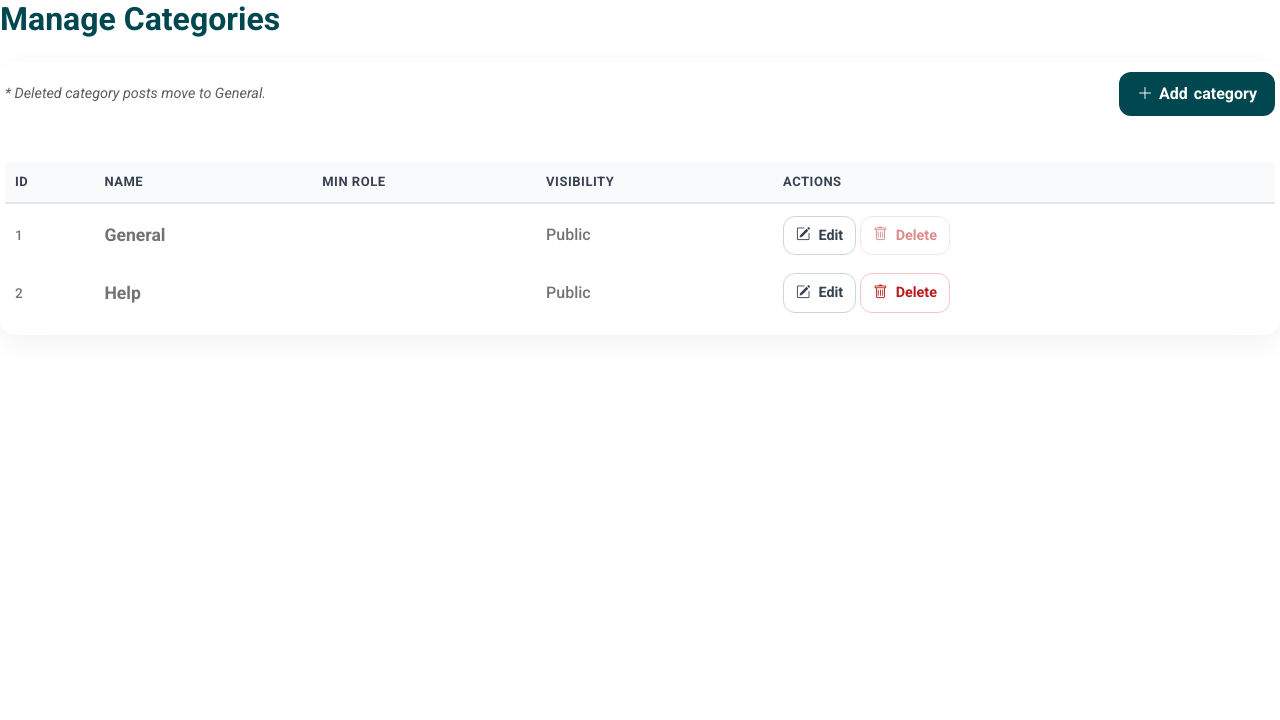
Scenario: AdminCategories.vue › displays categories from the database and delete opens confirmation with name and General
Check: the table with class "admin-table" is shown, box [5,156,1275,325]
Check: the 1st button with class "btn-delete" is disabled, box [860,216,950,255]
Click the button with class "btn-delete" in the row of "Help" at point(905, 293), box [860,273,950,313]
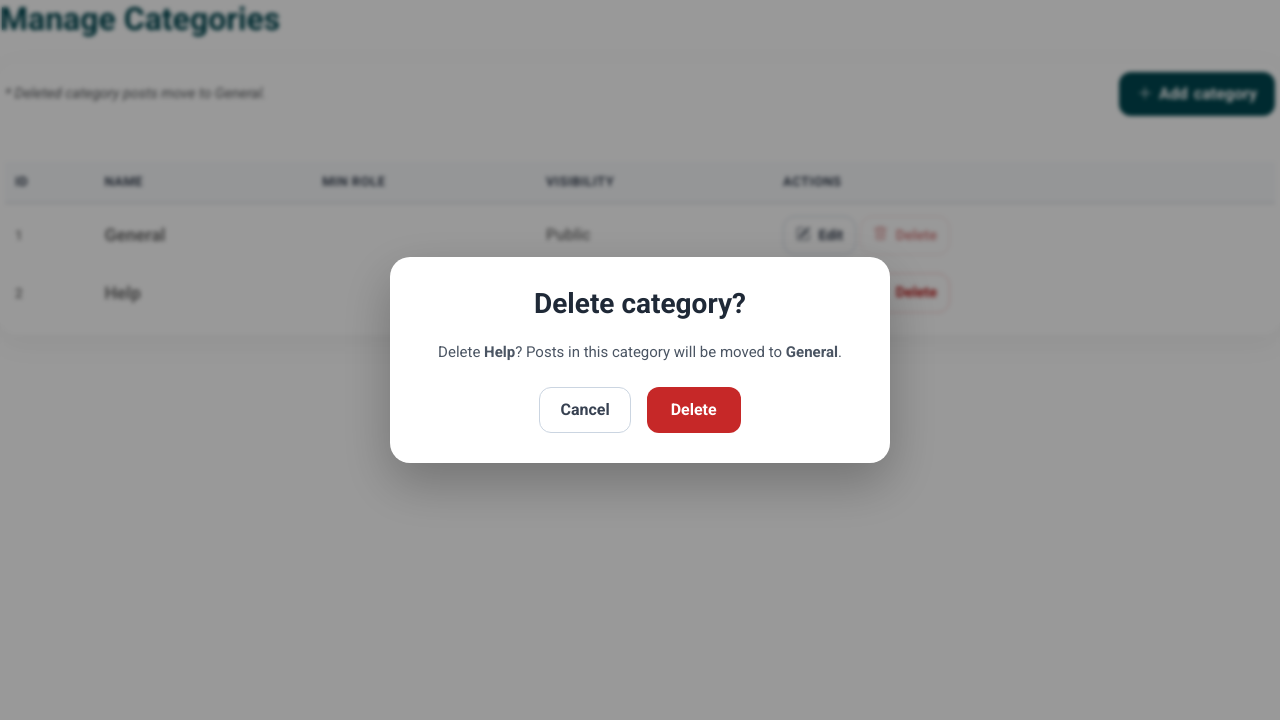
Check: the text "Help" is shown, box [94,267,312,319]
Check: the heading with class "confirm-title" reads "Delete category?", box [534,287,746,320]
